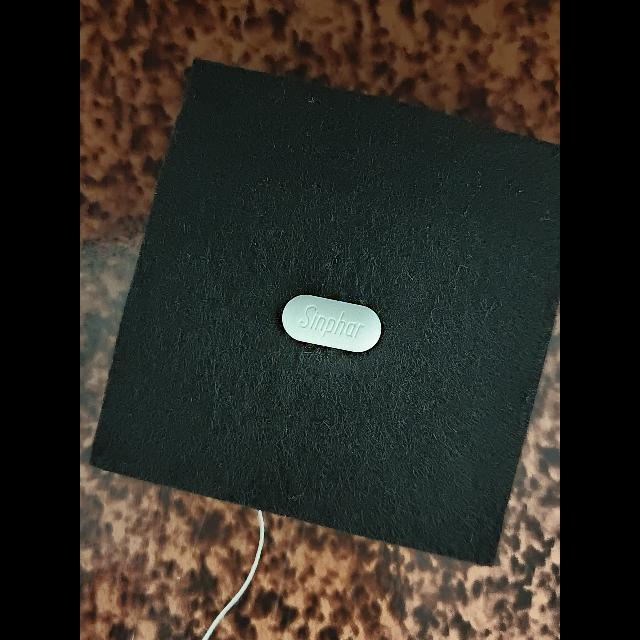Intact Pill: (282, 294, 381, 353)
